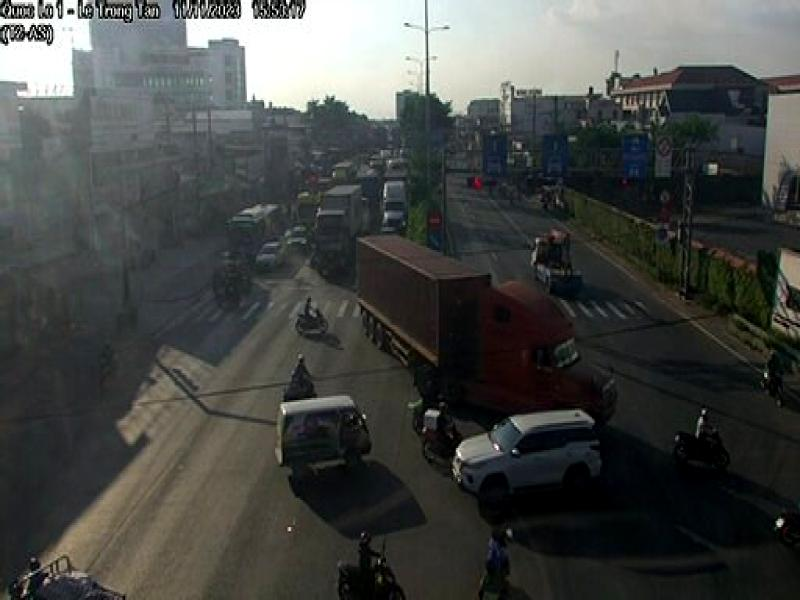truck: (352, 230, 621, 429)
